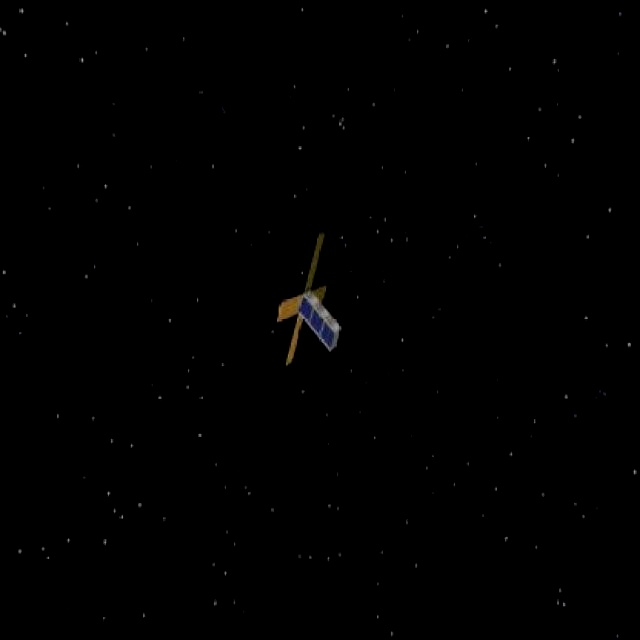medium_debris: (250, 222, 354, 370)
